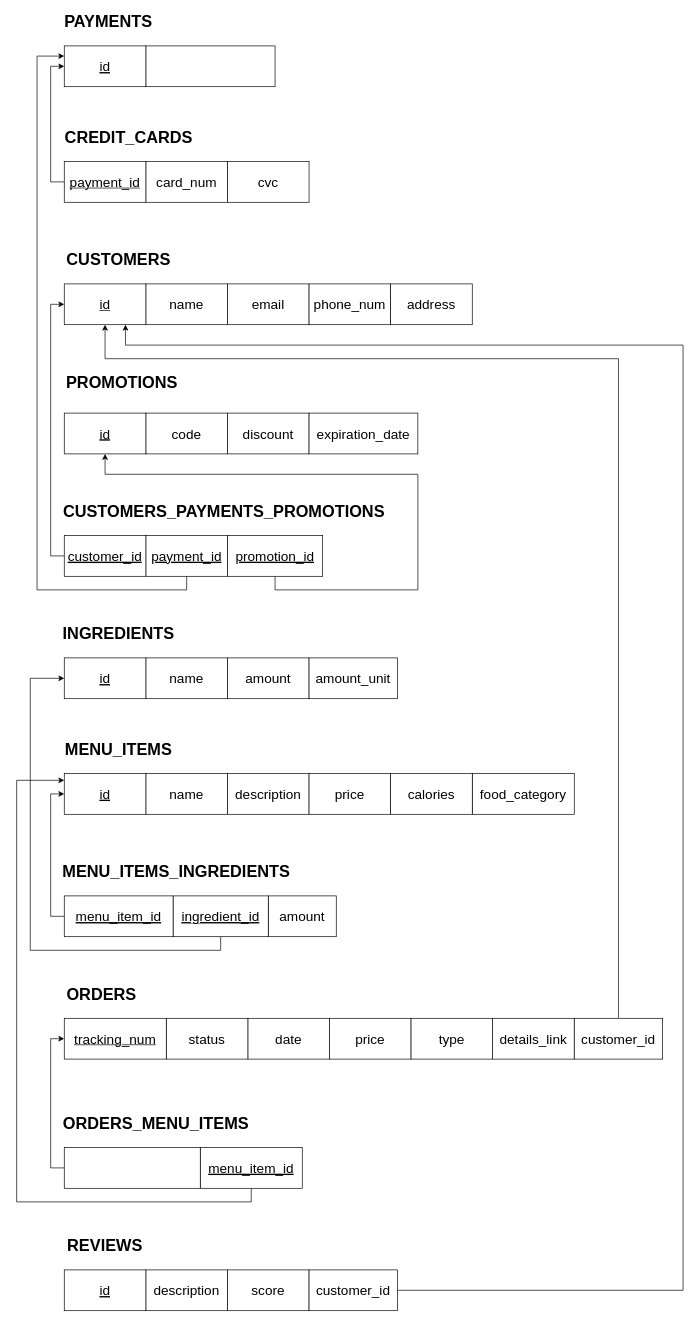
This 700x1323 diagram has some shape labels left out. The shapes that lost their labels are listed below. From the top down, each one's centre as x and y in pixels, then its label:
At pixel 210 66: "transaction_ status".
At pixel 132 1167: "order_tracking_num".
